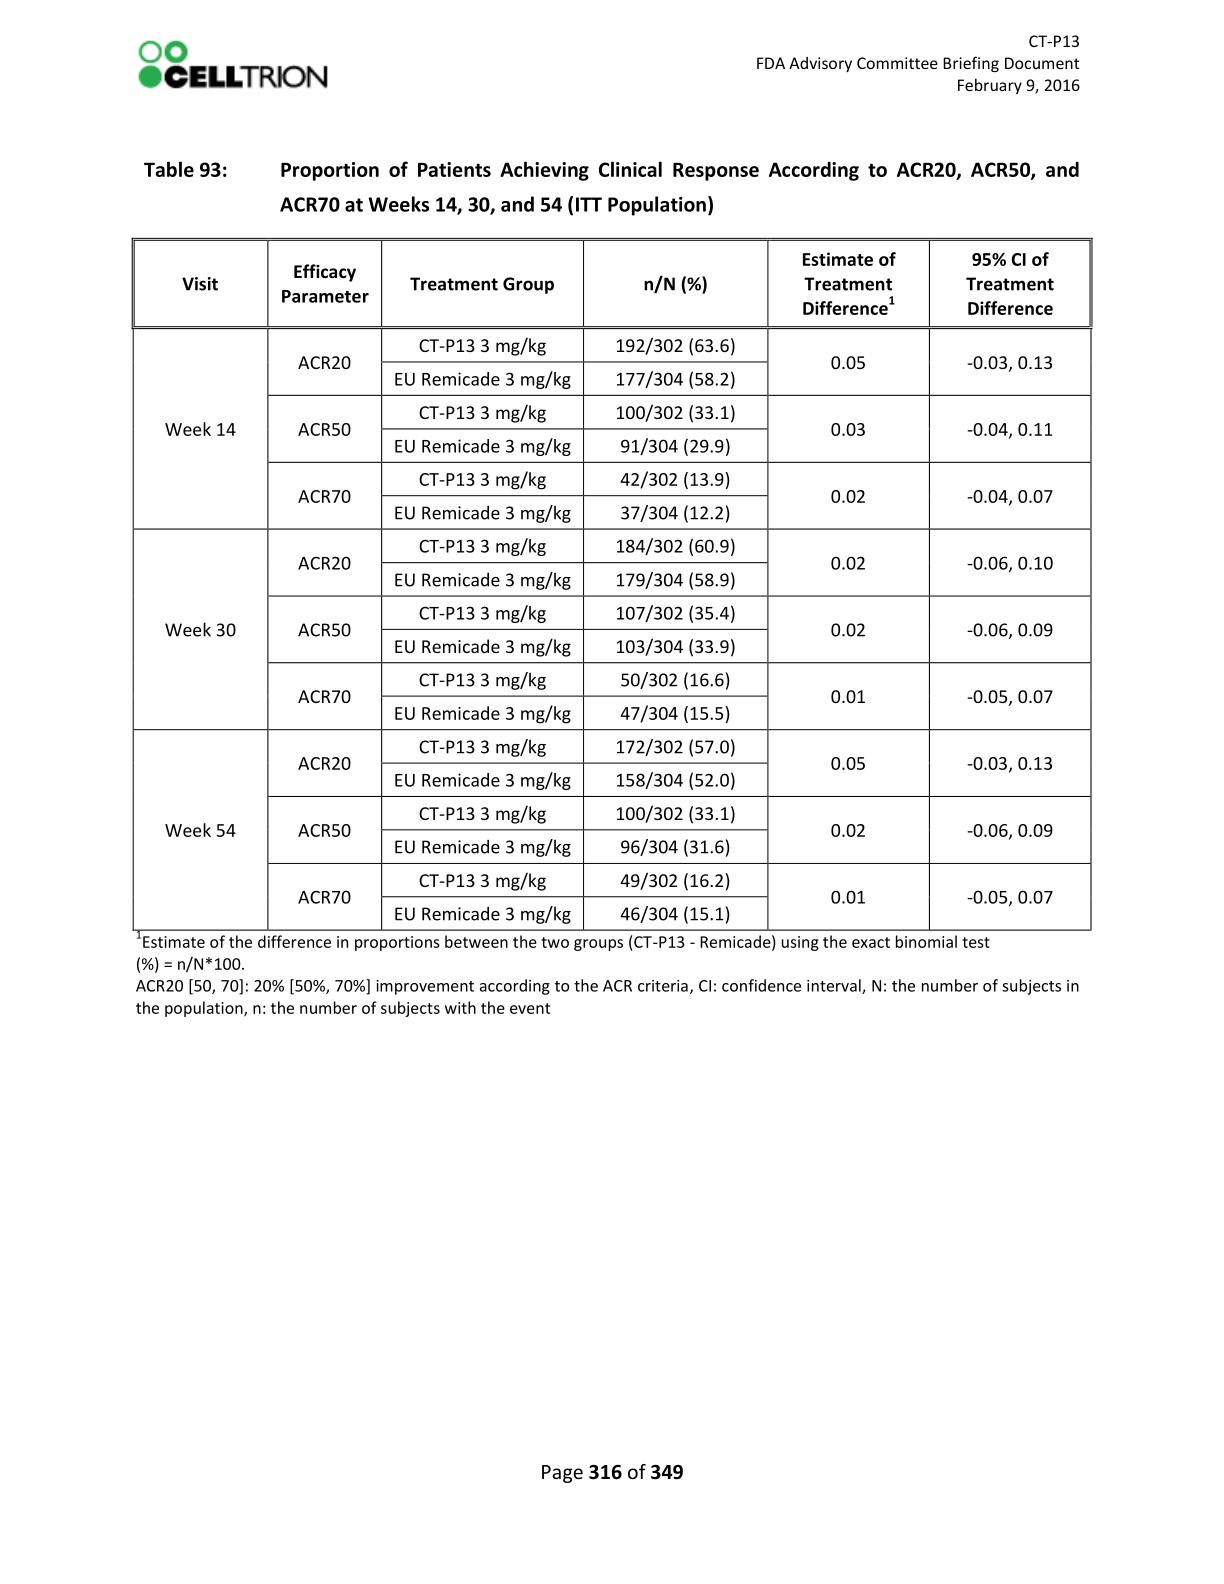merged_cells: (130, 237, 1094, 932)
